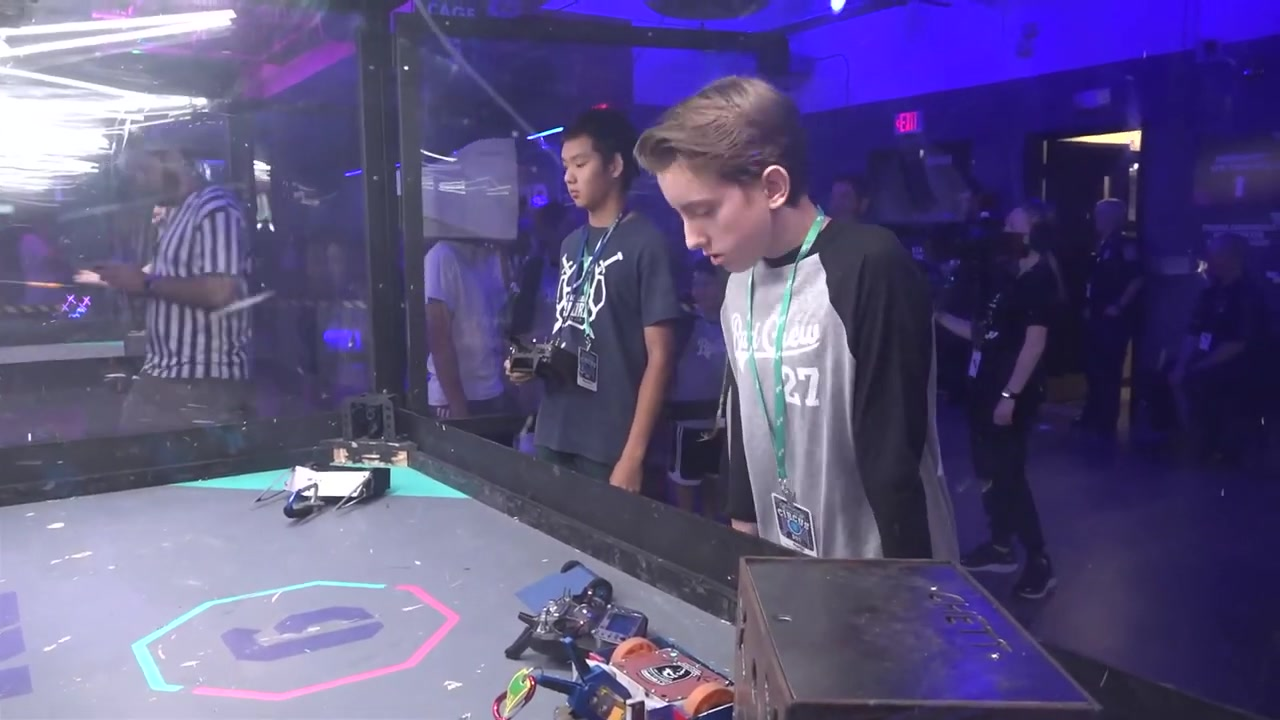combatbot: (589, 636, 736, 718), (256, 463, 392, 503)
housebot: (739, 556, 1101, 720)
minibot: (516, 559, 612, 614)
